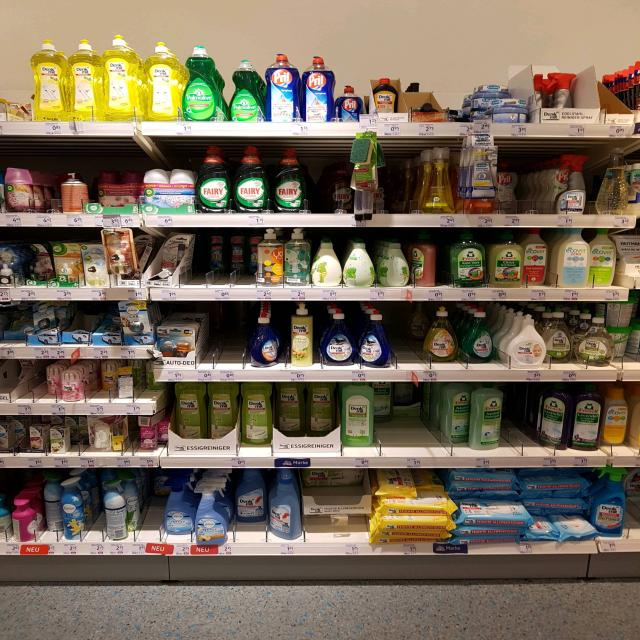void: (376, 381, 441, 465), (198, 304, 242, 388), (518, 138, 550, 230), (387, 142, 421, 228), (508, 382, 540, 471), (392, 300, 424, 382), (440, 72, 468, 138), (585, 70, 610, 138)
